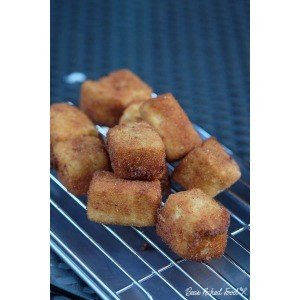tofu_brain food: (65, 77, 238, 235)
